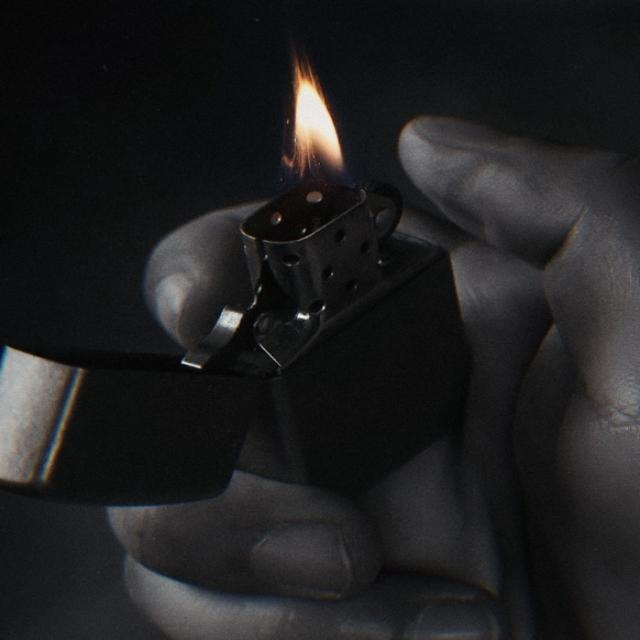fire: (293, 59, 343, 170)
